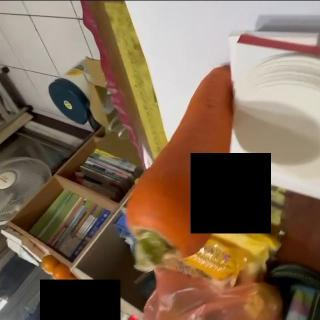carrot: (125, 64, 233, 268)
